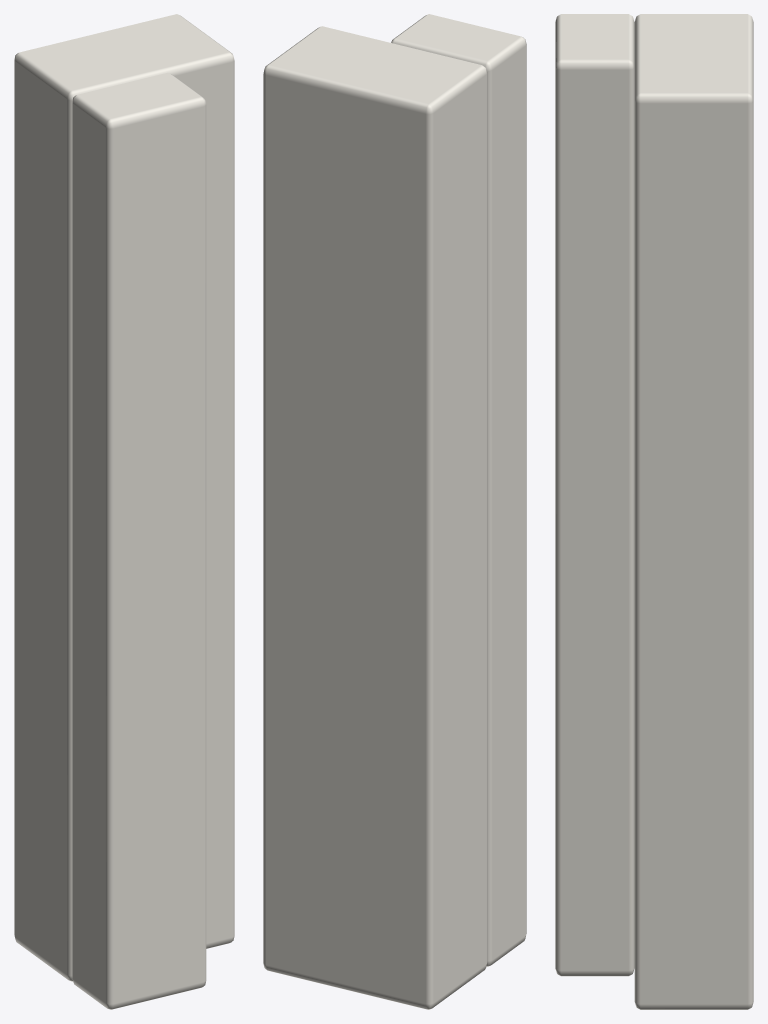
Rendered from wall-corner.glb.
The picture shows the model from 3 angles, left to right: view 1: azimuth 30°, elevation 25°; view 2: azimuth 150°, elevation 25°; view 3: azimuth 270°, elevation 25°; orthographic projection. The views are drawn at different scales.
Visible parts, largest first — view 1: part (×2); view 2: part (×2); view 3: part (×2).
Part boxes in pixels (x1=…): part (×2): x1=14, y1=14, x2=234, y2=1009; part (×2): x1=263, y1=14, x2=526, y2=1009; part (×2): x1=555, y1=14, x2=753, y2=1009.
Bounding box in the file's own units: 1 × 5.1 × 1.
Materials: 1 (1 with a texture image).
